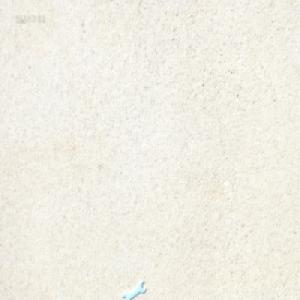Wrench: (121, 281, 146, 299)
